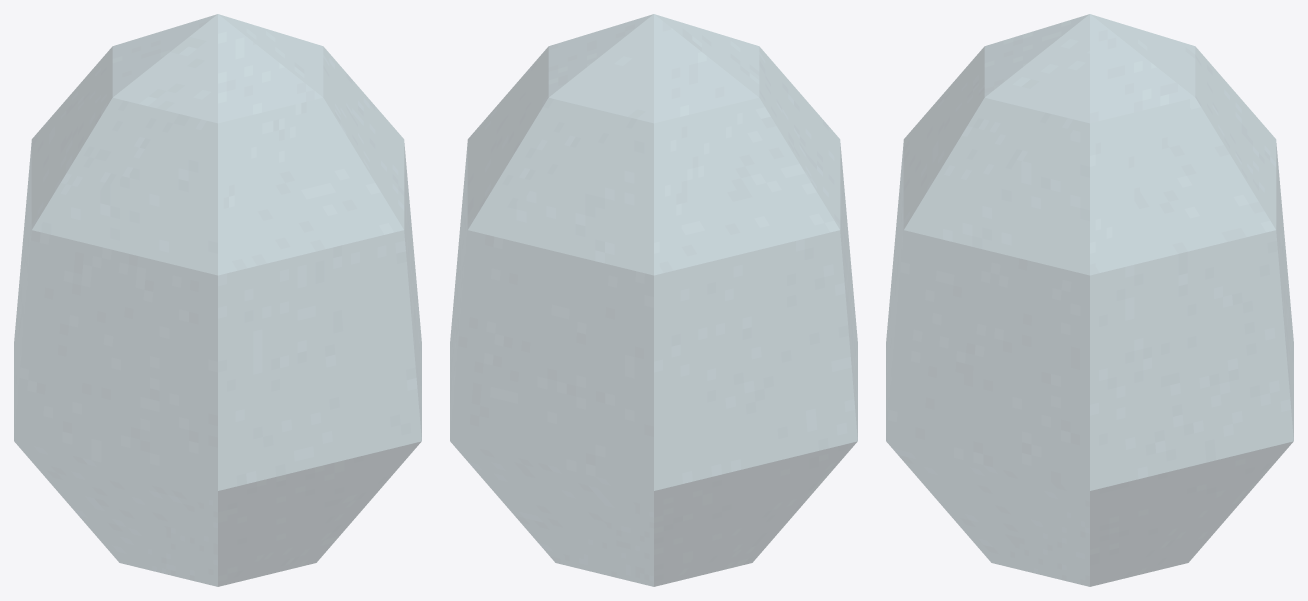
The model's file is art_crystal.glb.
3 views of the same model, side by side, from view 1: azimuth 30°, elevation 25°; view 2: azimuth 150°, elevation 25°; view 3: azimuth 270°, elevation 25° (orthographic).
Visible parts, largest first — view 1: block_translucent crystal; view 2: block_translucent crystal; view 3: block_translucent crystal.
Part boxes in pixels (x1,y1,x2,y2): block_translucent crystal: (14, 14, 421, 586); block_translucent crystal: (450, 14, 857, 586); block_translucent crystal: (886, 14, 1293, 586).
Bounding box in the file's own units: 0.121 × 0.1516 × 0.1048.
Materials: 1 (1 with a texture image).
